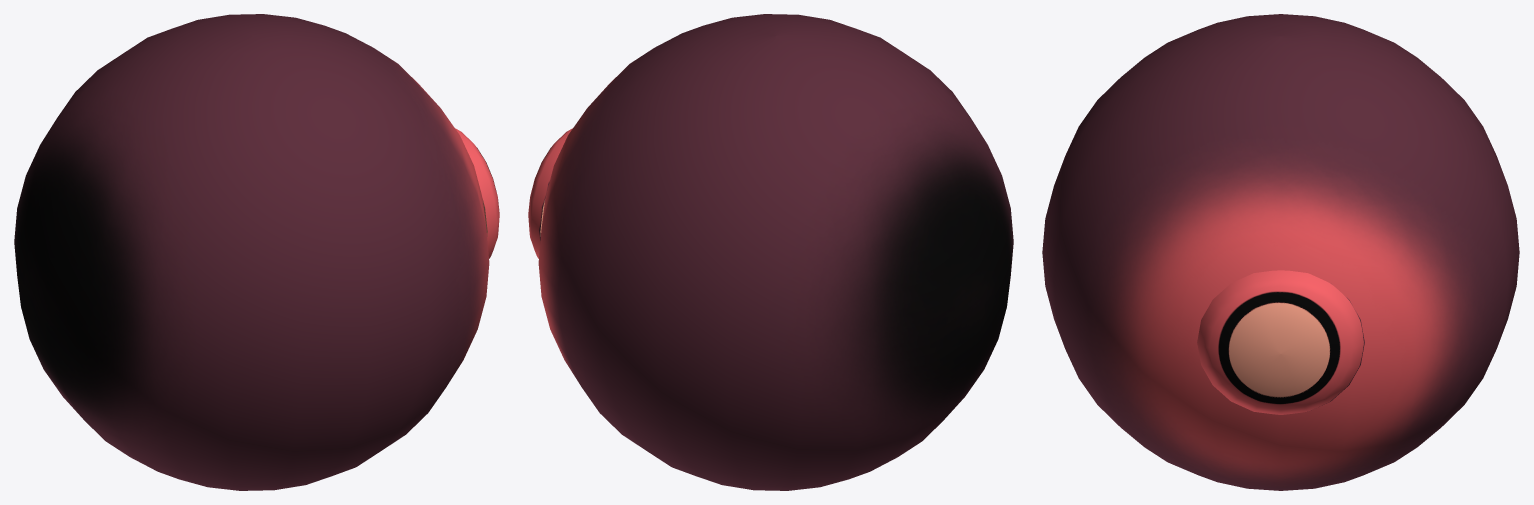
File: enemy2_around.fbx
The picture shows the model from 3 angles, left to right: view 1: azimuth 30°, elevation 25°; view 2: azimuth 150°, elevation 25°; view 3: azimuth 270°, elevation 25°; orthographic projection.
Parts seen in each view (by area): view 1: enemy2_around; view 2: enemy2_around; view 3: enemy2_around.
Boxes of the visible parts, box(x1,y1,x2,y2) form: enemy2_around: box(14, 14, 499, 490); enemy2_around: box(528, 14, 1013, 490); enemy2_around: box(1042, 14, 1519, 490).
Bounding box in the file's own units: 84.15 × 80 × 80.
Materials: 1 (1 with a texture image).
